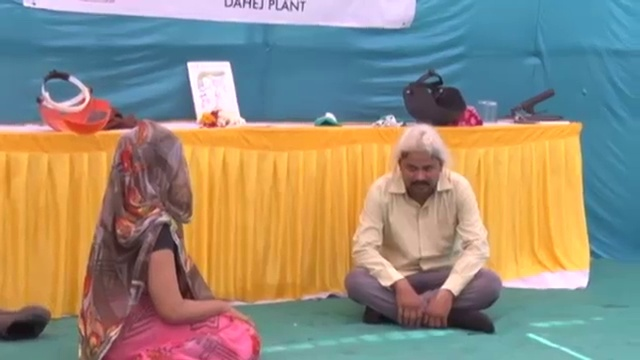helmet_off: (99, 122, 195, 222), (394, 127, 446, 200)
person: (75, 121, 263, 360), (340, 127, 505, 335)
